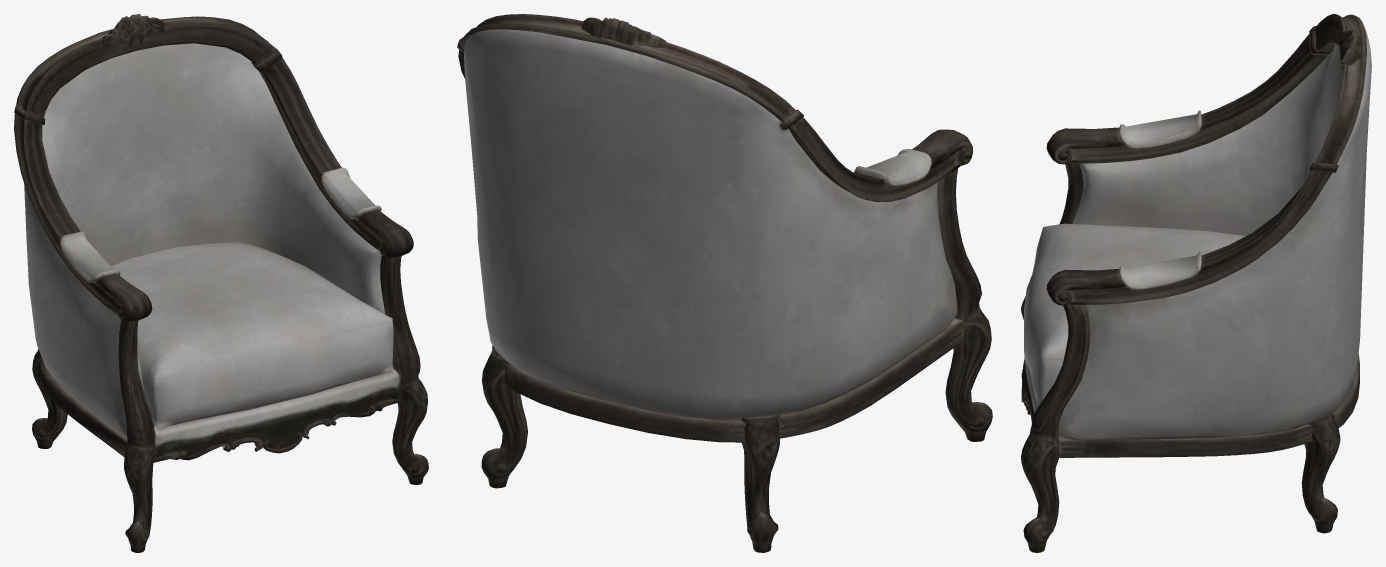
File: armchair-classic.glb
3 views of the same model, side by side, from view 1: azimuth 30°, elevation 25°; view 2: azimuth 150°, elevation 25°; view 3: azimuth 270°, elevation 25° (orthographic). The views are drawn at different scales.
Visible parts, largest first — view 1: ArmChair_01; view 2: ArmChair_01; view 3: ArmChair_01.
Boxes of the visible parts, x1,y1,x2,y2 form: ArmChair_01: [14, 14, 428, 552]; ArmChair_01: [457, 14, 992, 552]; ArmChair_01: [1021, 14, 1371, 552].
Size of the model in its own units: 0.85 by 1.06 by 0.77.
1 material, 1 textured.
